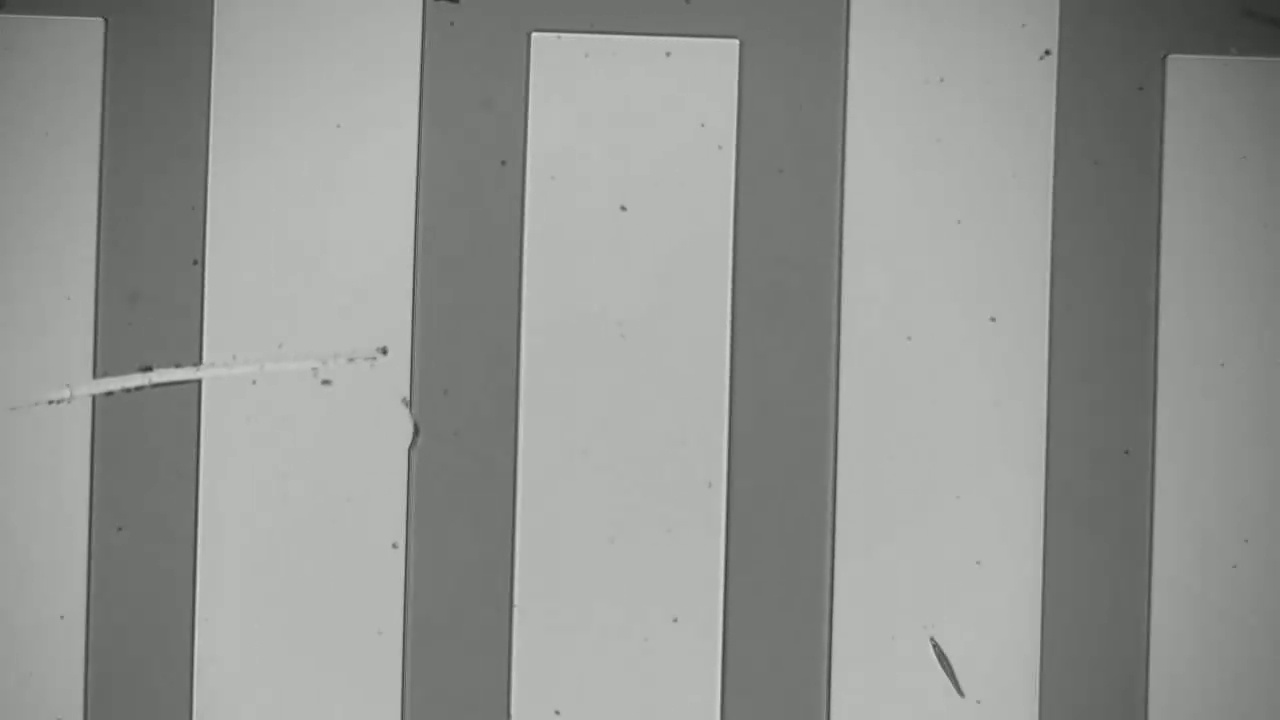Short_circuit: (55, 336, 233, 429)
